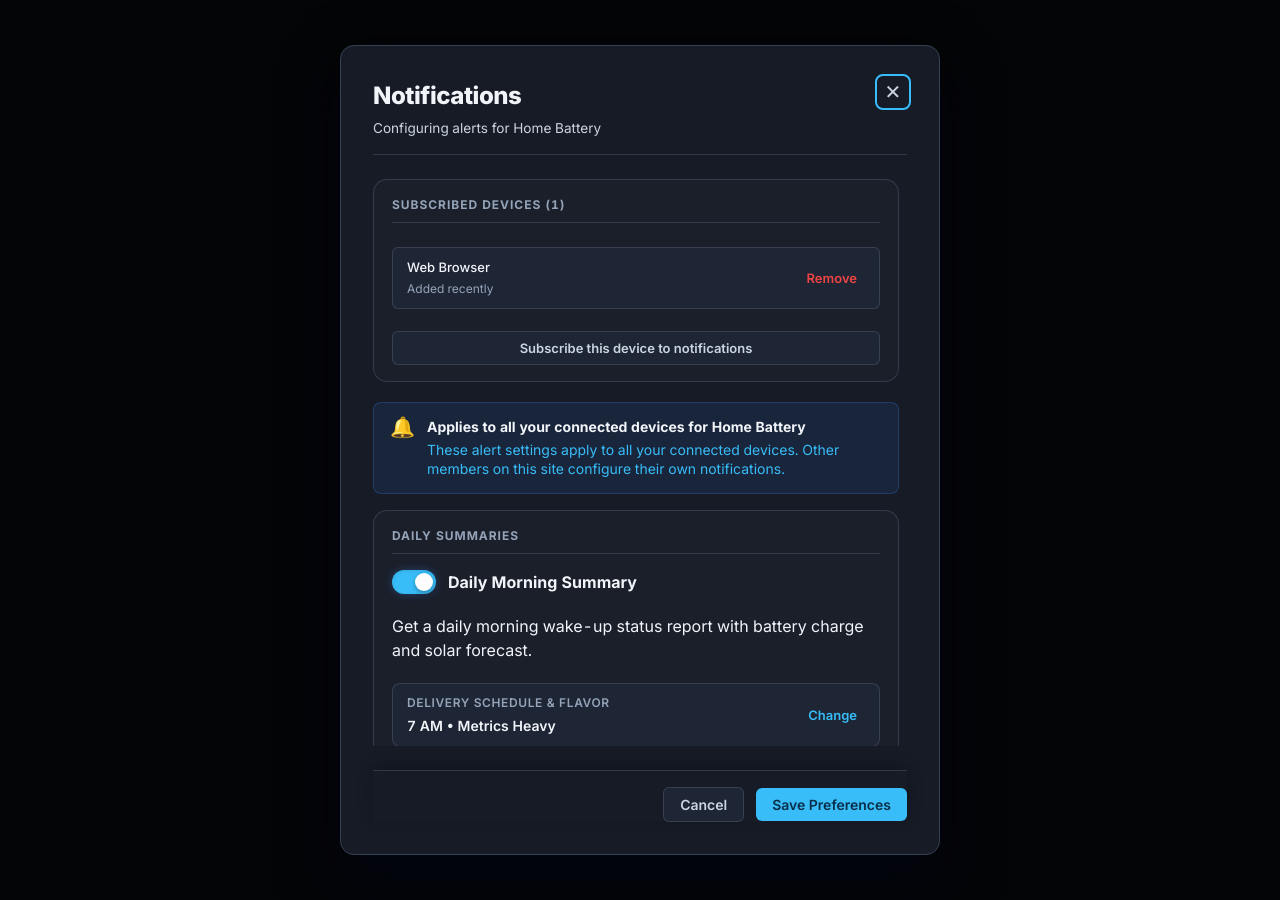
Test: NotificationModal › renders collapsed summary and expands delivery time and flavor selects when Change is clicked
This screenshot has width=1280, height=900.
Check: the text "7 AM • Metrics Heavy" is shown, box x1=407 y1=717 x2=556 y2=734
Click "Change" on morning summary
Click the button with aria-label "Change morning summary settings" at point(833, 715), box x1=800 y1=704 x2=865 y2=726
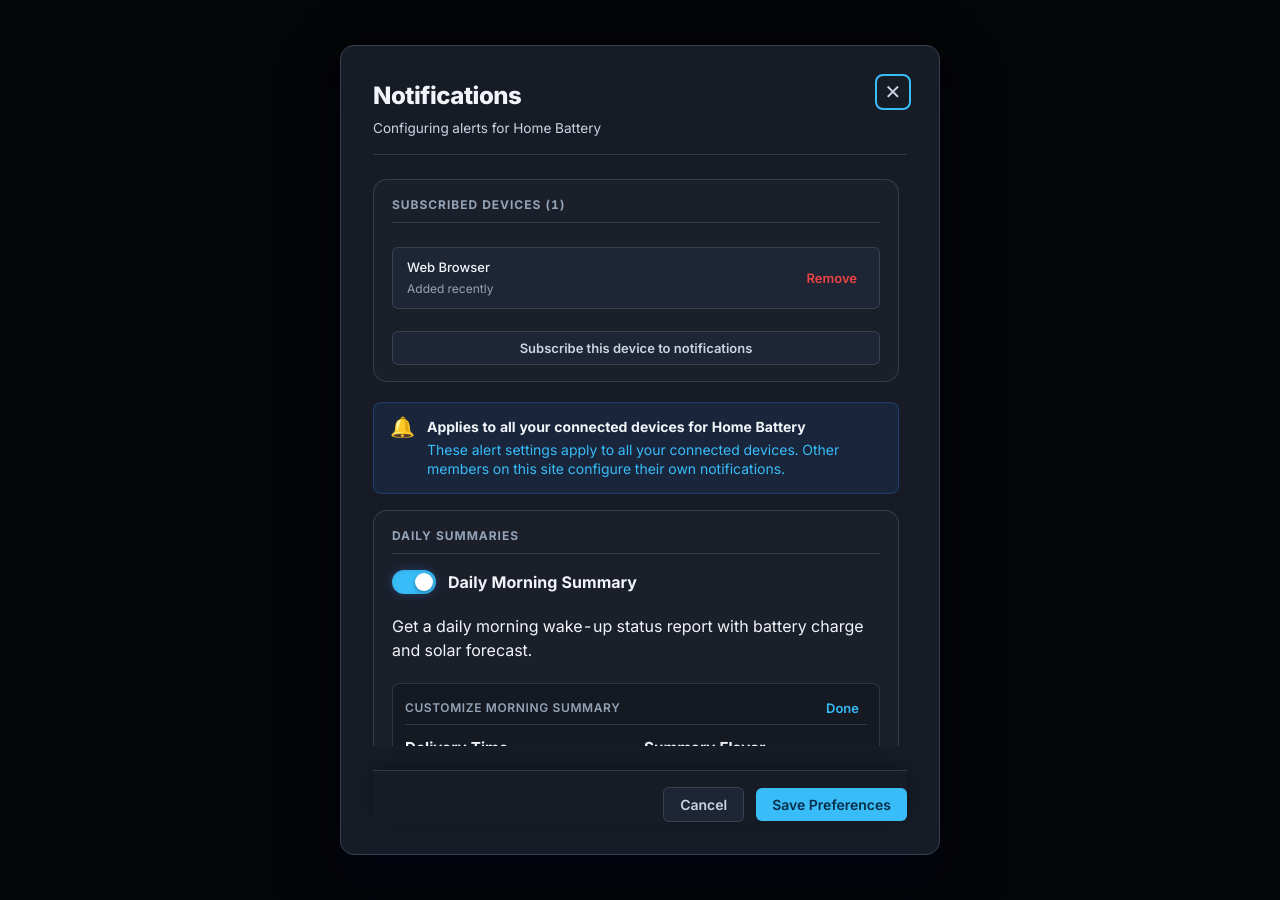
Click "Done" on morning summary
Click the button with aria-label "Done editing morning summary" at point(842, 708), box x1=818 y1=696 x2=867 y2=719
(page scrolled)
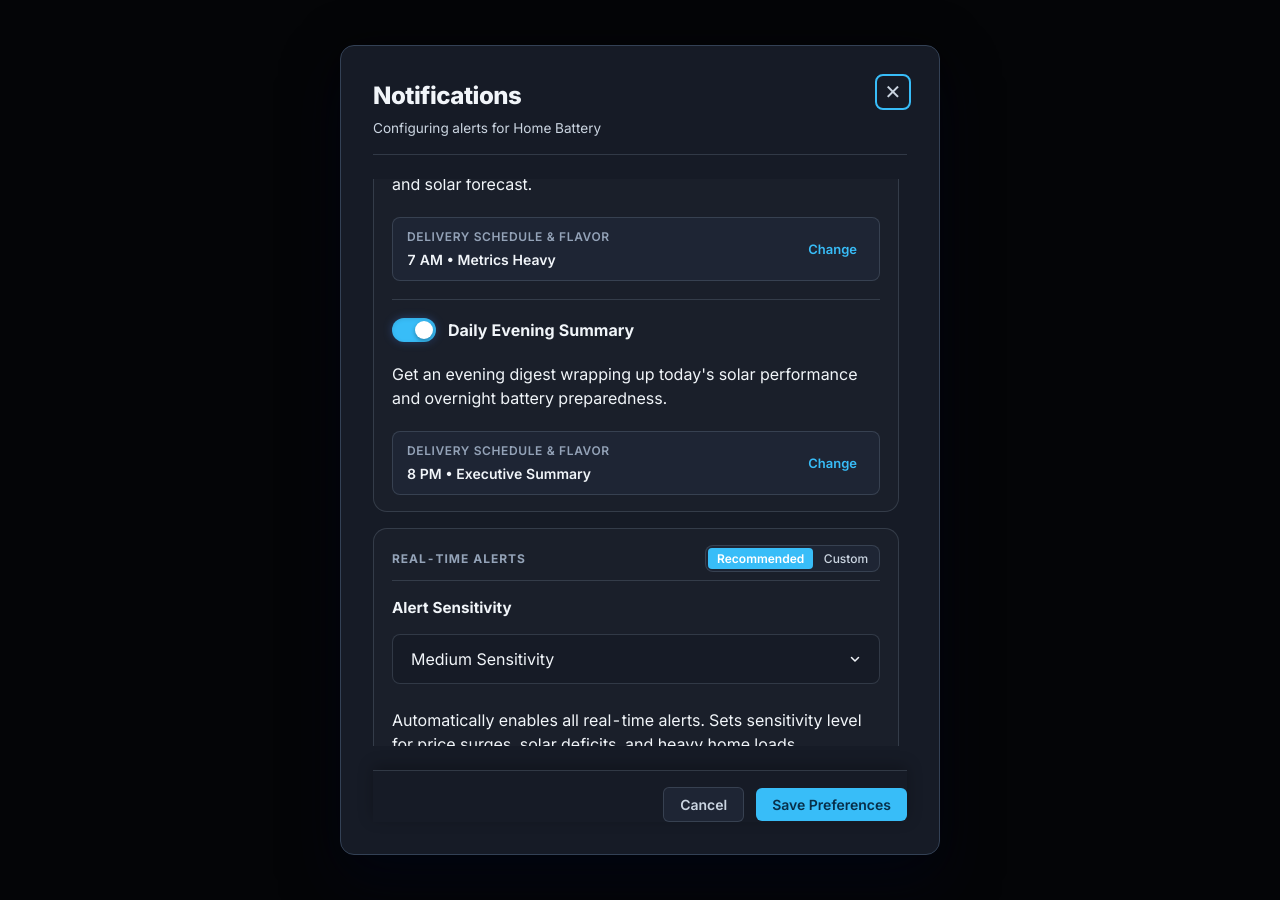
Check: the text "7 AM • Metrics Heavy" is shown, box x1=407 y1=251 x2=556 y2=268
Click "Change" on evening summary
Click the button with aria-label "Change evening summary settings" at point(833, 463), box x1=800 y1=452 x2=865 y2=474
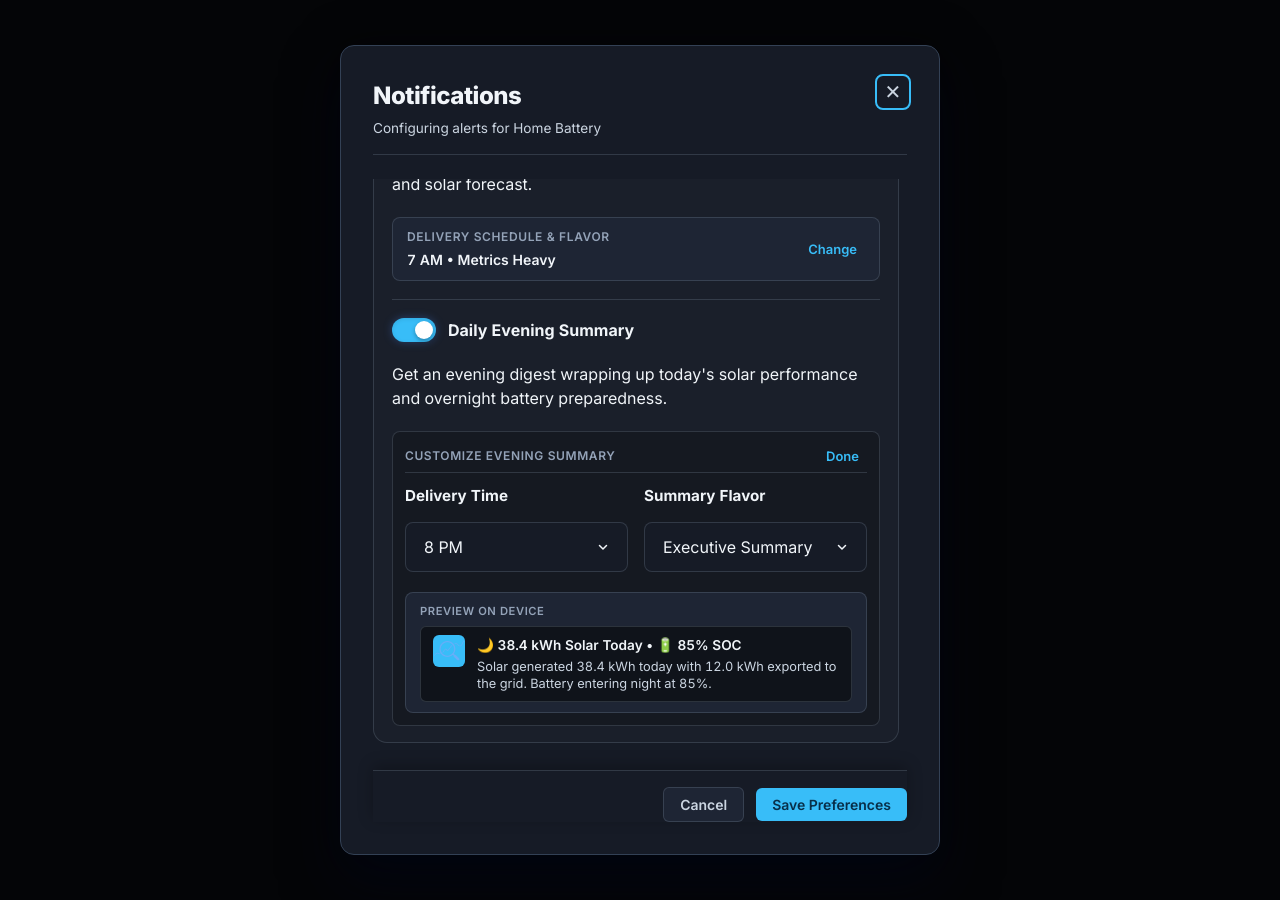
Check: the dropdown named "Evening Summary Delivery Time" reads "8 PM", box x1=405 y1=522 x2=628 y2=572
Check: the dropdown named "Evening Summary Flavor" is shown, box x1=644 y1=522 x2=867 y2=572
Check: the text "Preview on Device" is shown once, box x1=420 y1=603 x2=544 y2=620
Click "Done" on evening summary
Click the button with aria-label "Done editing evening summary" at point(842, 456), box x1=818 y1=444 x2=867 y2=467
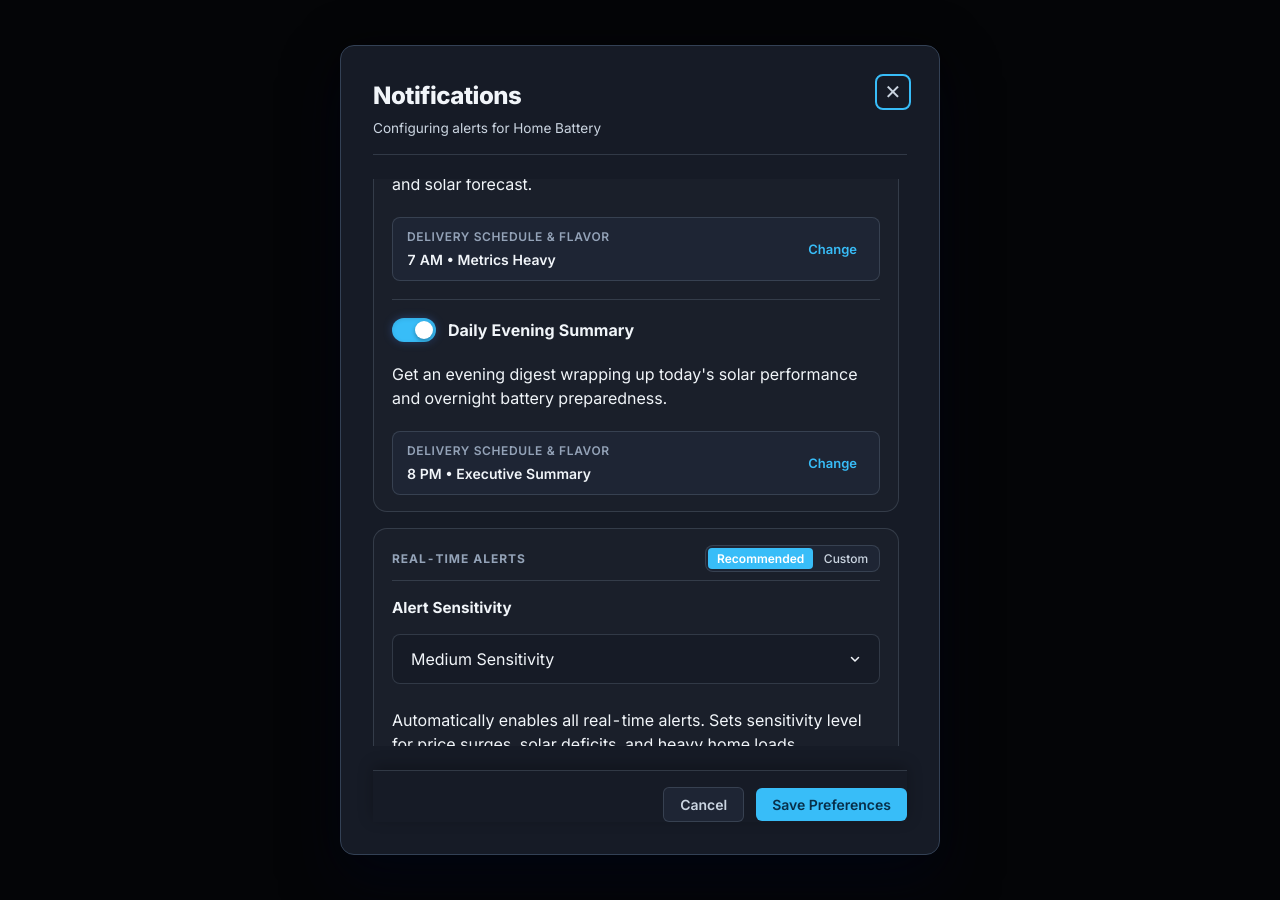
Check: the text "8 PM • Executive Summary" is shown, box x1=407 y1=465 x2=591 y2=482
